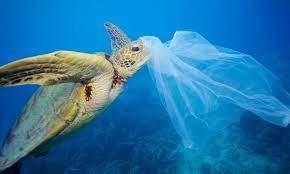Trash: (147, 21, 289, 155)
